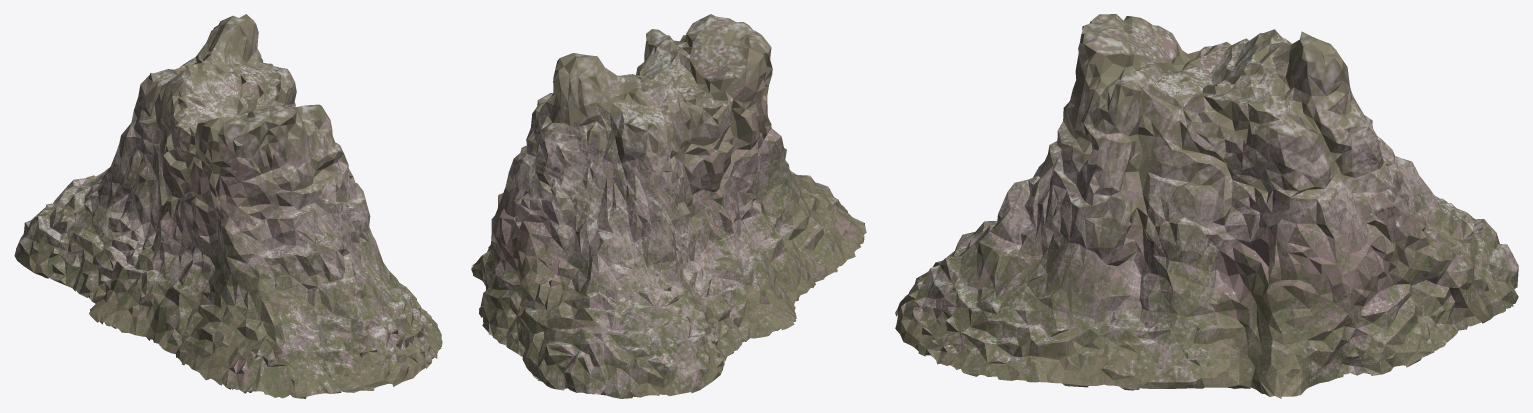
Rendered from mountain.glb.
The picture shows the model from 3 angles, left to right: view 1: azimuth 30°, elevation 25°; view 2: azimuth 150°, elevation 25°; view 3: azimuth 270°, elevation 25°; orthographic projection. The views are drawn at different scales.
Parts seen in each view (by area): view 1: ZBrush_defualt_group; view 2: ZBrush_defualt_group; view 3: ZBrush_defualt_group.
Boxes of the visible parts, left/top/right/bottom form: ZBrush_defualt_group: left=14, top=14, right=442, bottom=398; ZBrush_defualt_group: left=471, top=14, right=866, bottom=398; ZBrush_defualt_group: left=895, top=14, right=1518, bottom=398.
Size of the model in its own units: 12.21 by 9.87 by 18.78.
1 material, 1 textured.
